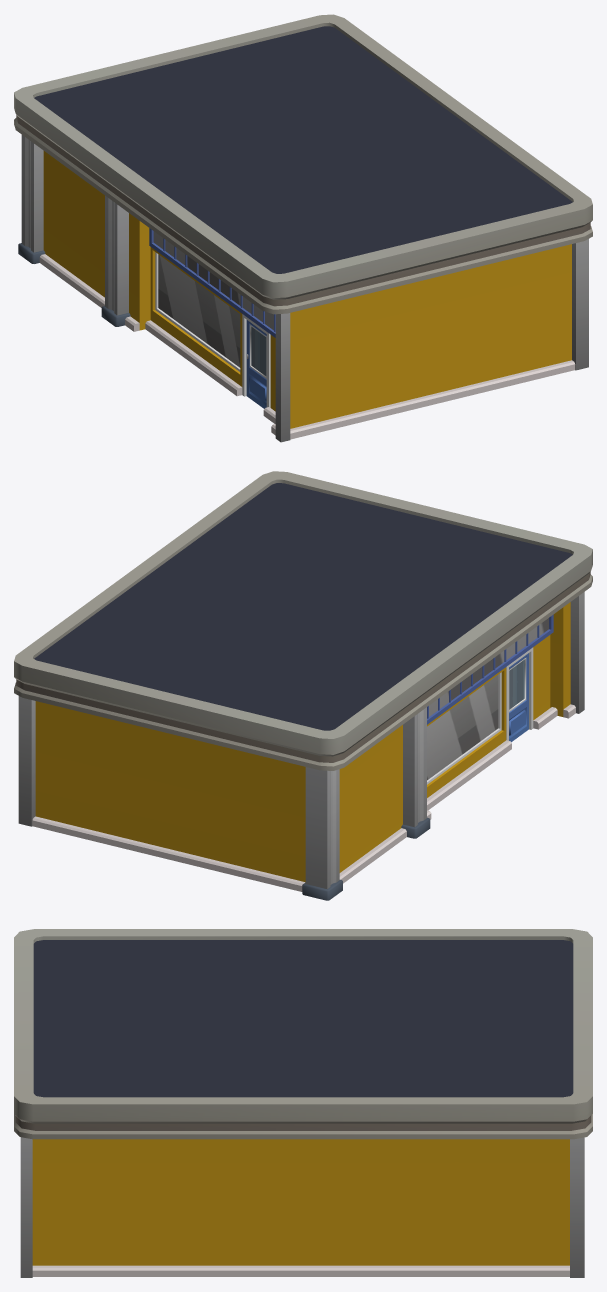
The model's file is Building_11_4_G.fbx.
3 renders of one model, top to bottom at view 1: azimuth 30°, elevation 25°; view 2: azimuth 150°, elevation 25°; view 3: azimuth 270°, elevation 25°, orthographic. The views are drawn at different scales.
Visible parts, largest first — view 1: Building_11_4_G; view 2: Building_11_4_G; view 3: Building_11_4_G.
Part boxes in pixels (box(x1,y1,x2,y2)): Building_11_4_G: box(14, 14, 592, 442); Building_11_4_G: box(14, 471, 592, 900); Building_11_4_G: box(14, 929, 592, 1277).
Size of the model in its own units: 833 by 393 by 1163.
